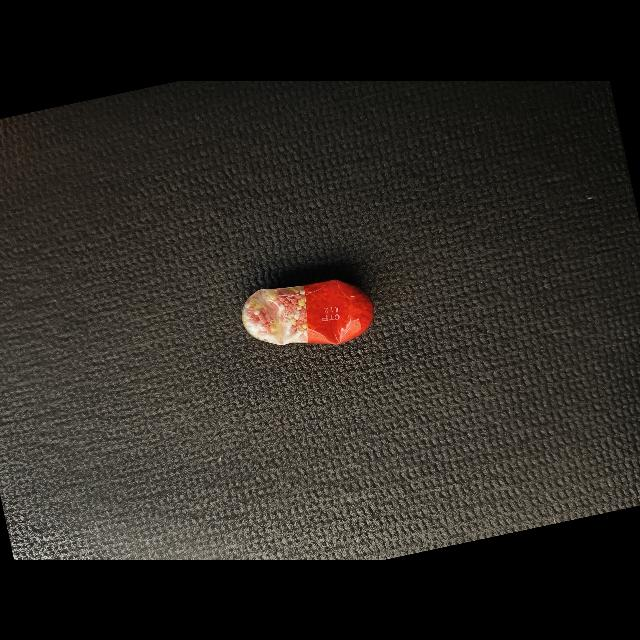Defective Capsule: (242, 279, 374, 345)
